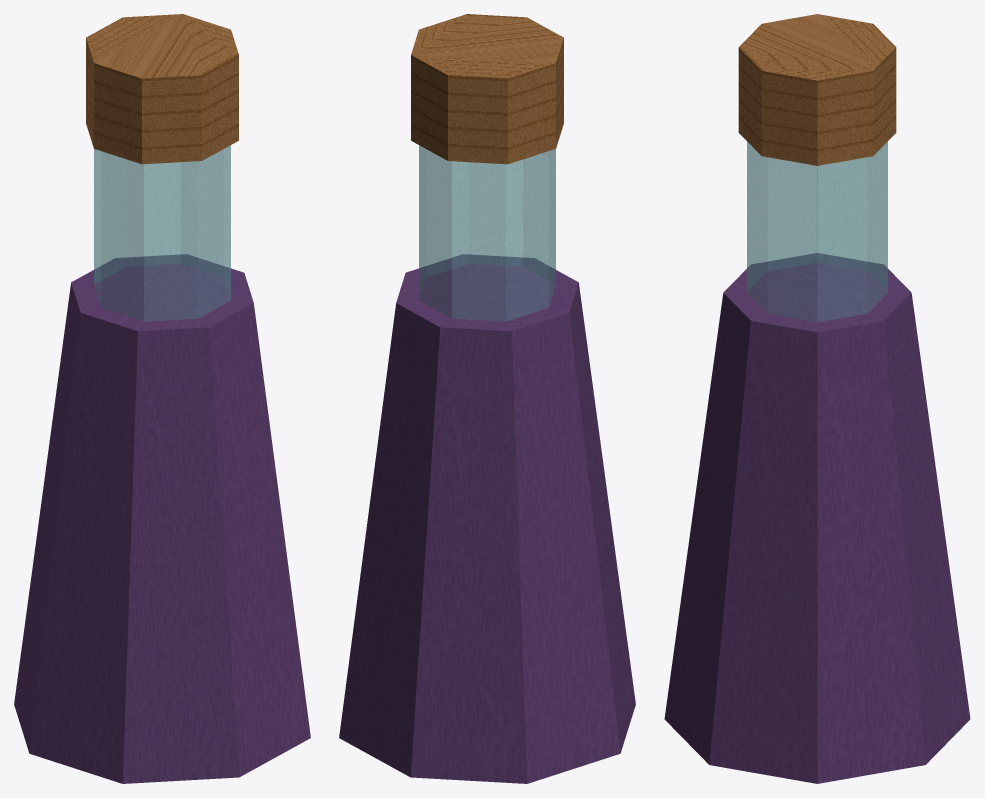
The model's file is potion_4.glb.
3 views of the same model, side by side, from view 1: azimuth 30°, elevation 25°; view 2: azimuth 150°, elevation 25°; view 3: azimuth 270°, elevation 25° (orthographic).
Parts seen in each view (by area): view 1: bottle, neck, cork; view 2: bottle, neck, cork; view 3: bottle, neck, cork.
Boxes of the visible parts, left/top/right/bottom form: bottle: left=14, top=254, right=310, bottom=783; neck: left=94, top=145, right=230, bottom=321; cork: left=86, top=14, right=238, bottom=164; bottle: left=339, top=254, right=635, bottom=783; neck: left=419, top=145, right=555, bottom=321; cork: left=411, top=14, right=563, bottom=164; bottle: left=664, top=253, right=970, bottom=783; neck: left=747, top=141, right=887, bottom=322; cork: left=738, top=14, right=896, bottom=165.
Bounding box in the file's own units: 0.26 × 0.63 × 0.26.
Materials: 2 (2 with a texture image).
